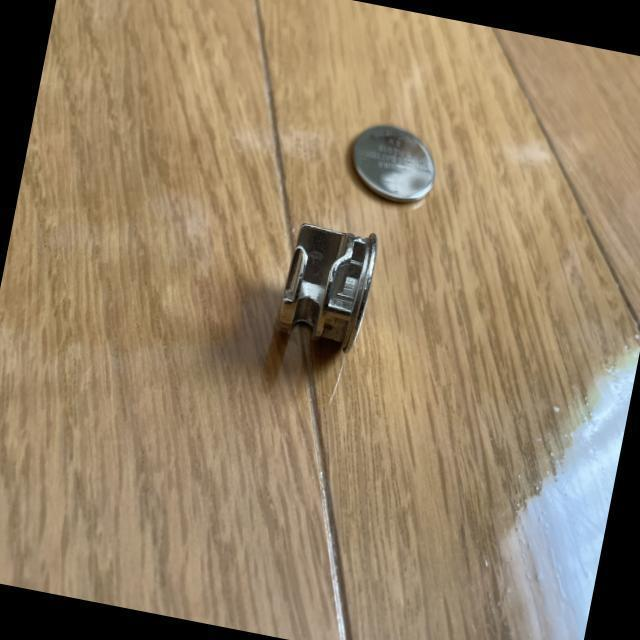COIN: (342, 118, 442, 211)
